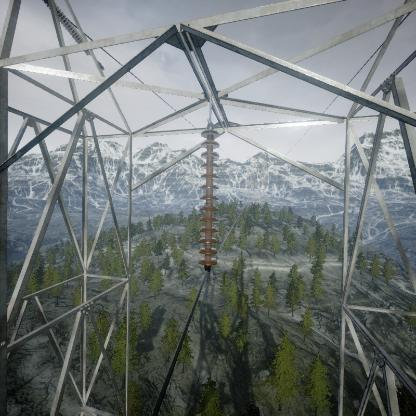insulator: (197, 124, 222, 272)
